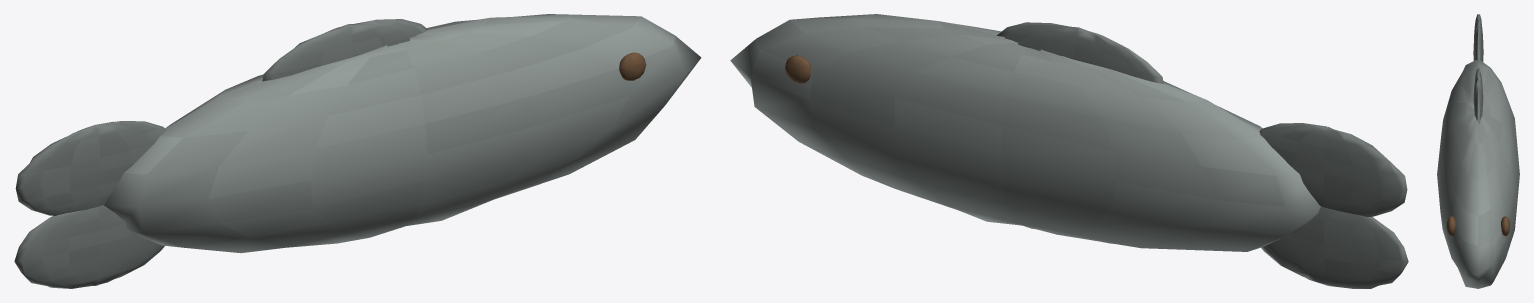
The model's file is Whitefish.glb.
3 views of the same model, side by side, from view 1: azimuth 30°, elevation 25°; view 2: azimuth 150°, elevation 25°; view 3: azimuth 270°, elevation 25° (orthographic). The views are drawn at different scales.
Visible parts, largest first — view 1: Whitefish; view 2: Whitefish; view 3: Whitefish.
Part boxes in pixels (left/top/right/bottom): Whitefish: left=14, top=14, right=701, bottom=288; Whitefish: left=730, top=14, right=1408, bottom=288; Whitefish: left=1437, top=14, right=1519, bottom=288.
Size of what is drawn, in the model's own units: 0.3157 by 0.0948 by 0.0494.
